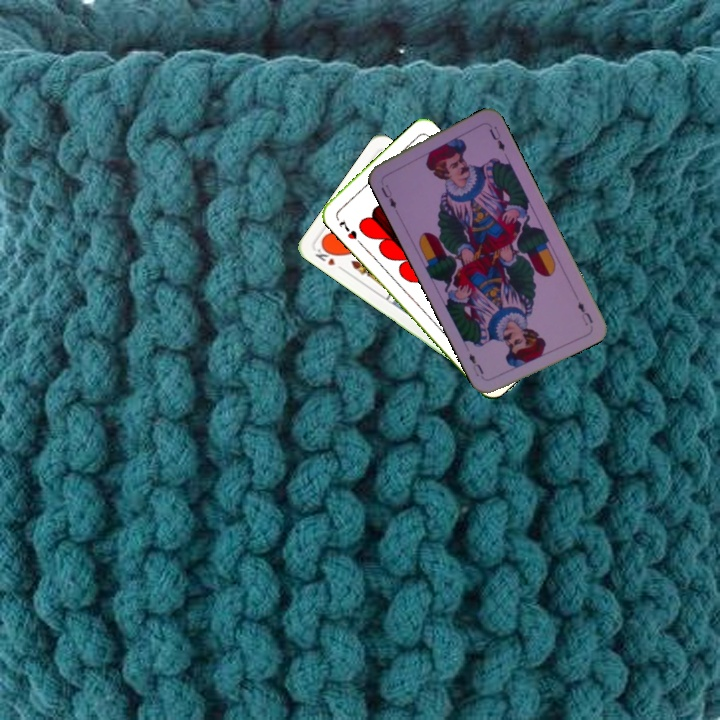EU: (377, 180, 399, 211), (573, 298, 595, 328)
H7: (335, 216, 359, 242)
HK: (311, 241, 347, 274)
